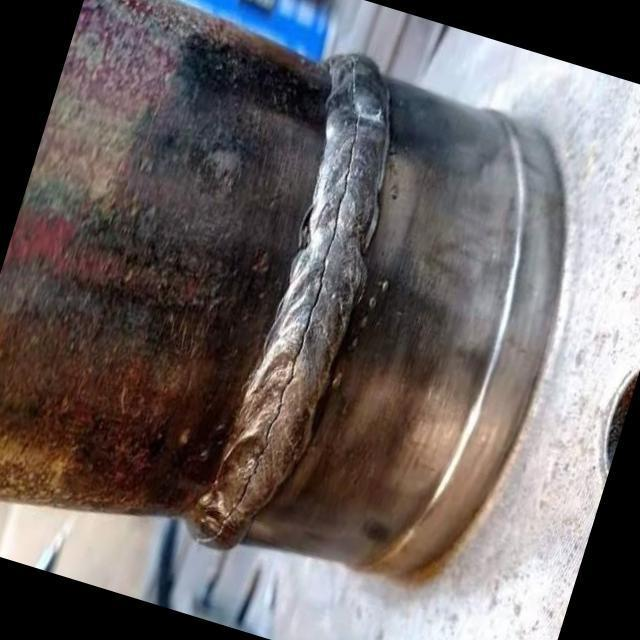defect: (198, 50, 365, 548)
